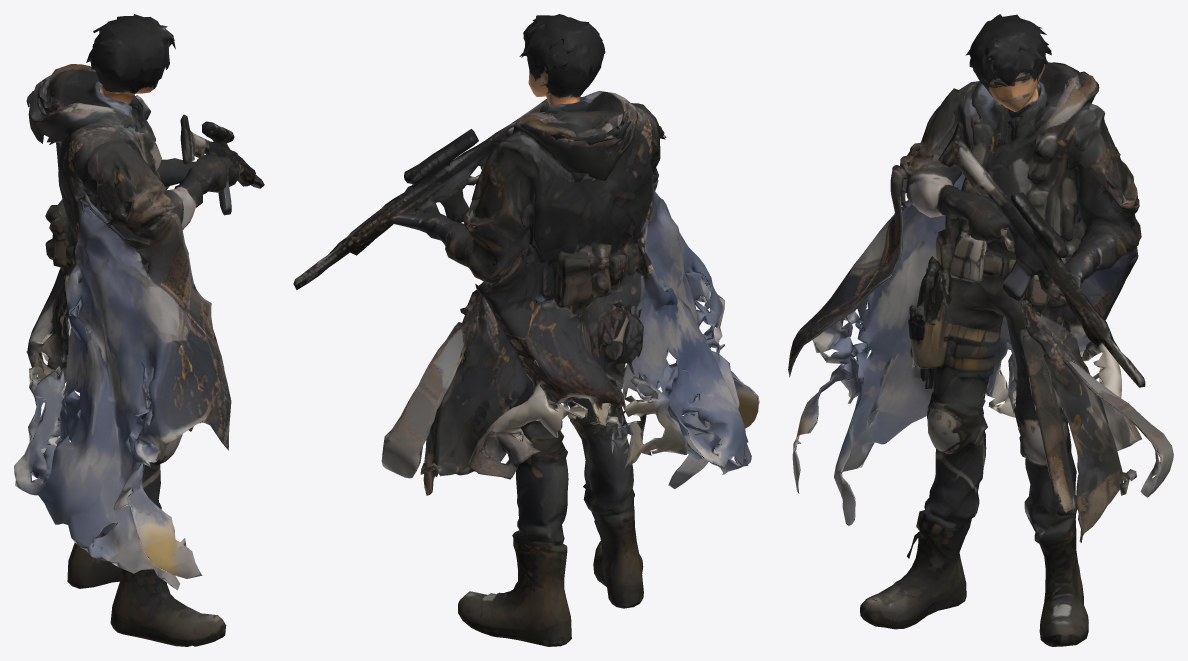
Rendered from rifleman_dingxiaoman.obj.
3 renders of one model, left to right at view 1: azimuth 30°, elevation 25°; view 2: azimuth 150°, elevation 25°; view 3: azimuth 270°, elevation 25°, orthographic. The views are drawn at different scales.
Visible parts, largest first — view 1: rifleman_dingxiaoman; view 2: rifleman_dingxiaoman; view 3: rifleman_dingxiaoman.
Boxes of the visible parts, x1,y1,x2,y2 form: rifleman_dingxiaoman: (14,14,264,646); rifleman_dingxiaoman: (293,14,759,646); rifleman_dingxiaoman: (788,14,1173,646).
Bounding box in the file's own units: 0.5961 × 1 × 0.581.
Materials: 1 (1 with a texture image).
